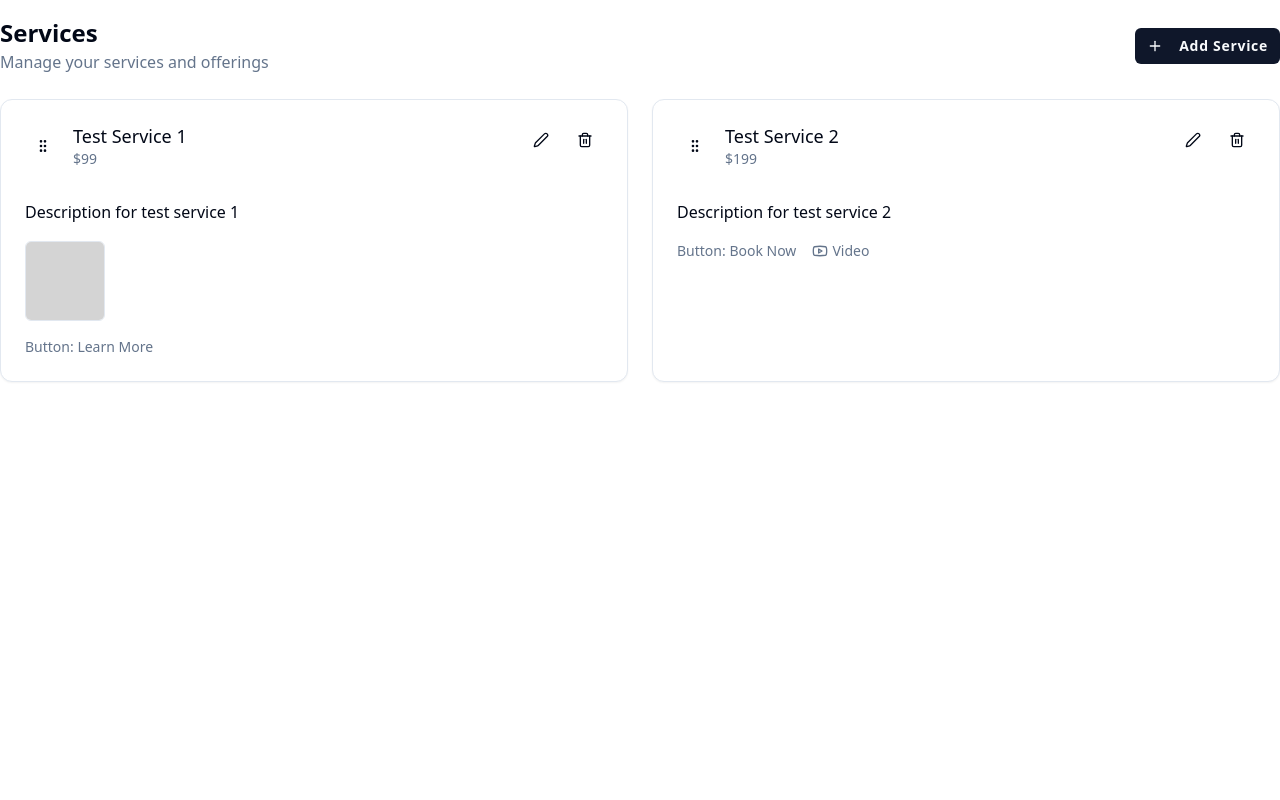
ServicesSection › should open create service dialog when add button is clicked
This screenshot has width=1280, height=800.
Click add service button
Click the button "Add Service".
click(1208, 46)  # box [1135,28,1279,64]
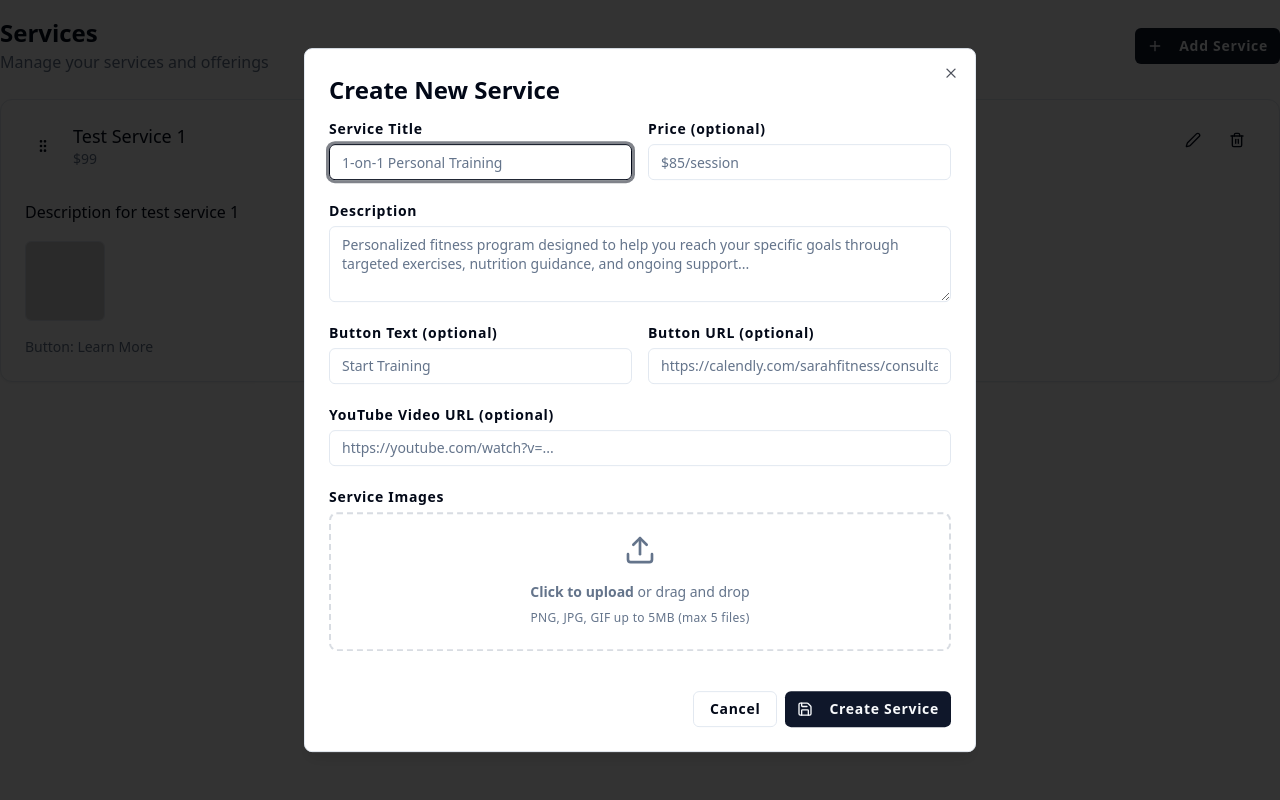
Result: the heading "Create New Service" is shown at [329,73,560,106]
Result: the field labelled "Service Title" is shown at [329,144,632,180]
Result: the text box labelled "Description" is shown at [329,226,951,302]
